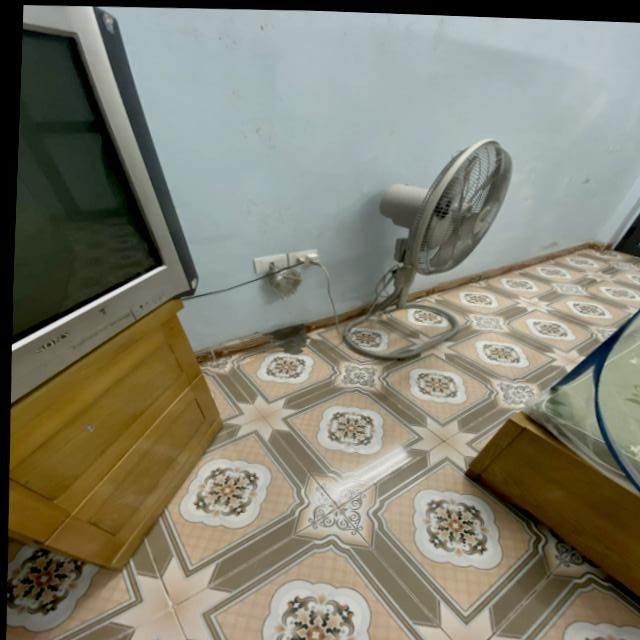outlet: (252, 254, 287, 277), (287, 249, 319, 271)
